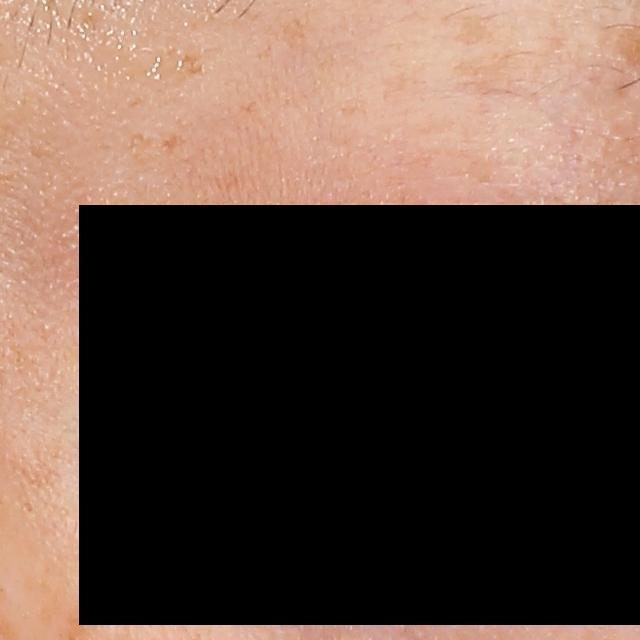melasma: (448, 13, 489, 47), (176, 49, 209, 79), (161, 130, 185, 151)
